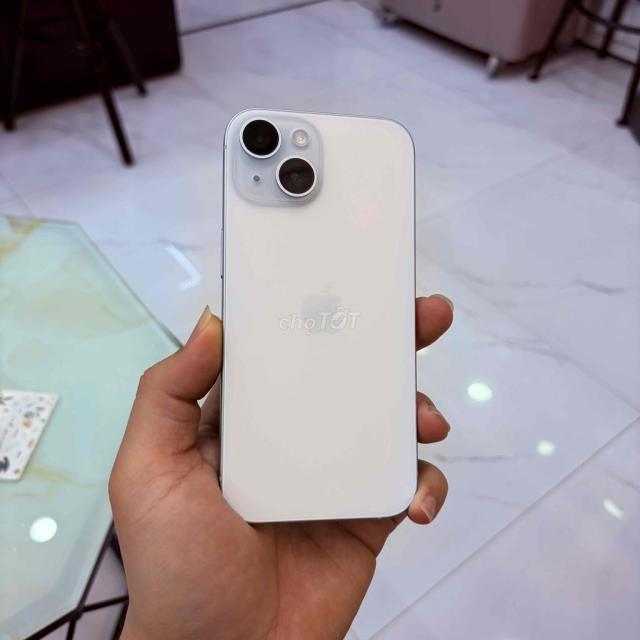gen_15: (199, 104, 437, 558)
